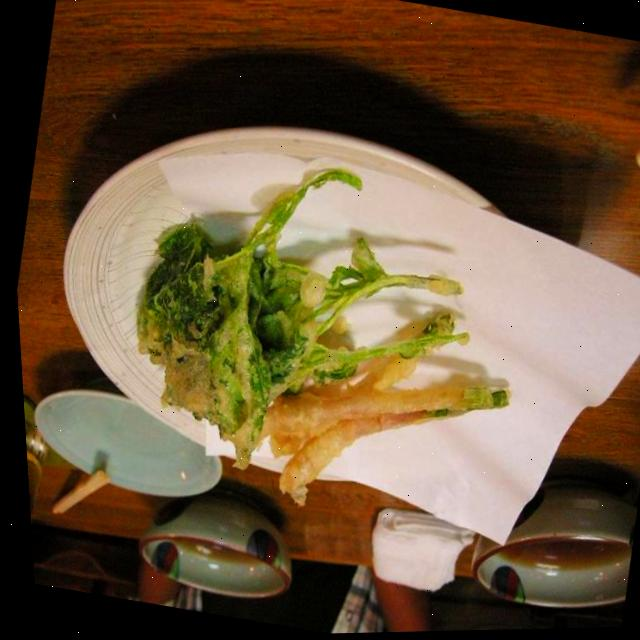蔬菜料理: (61, 151, 534, 538)
